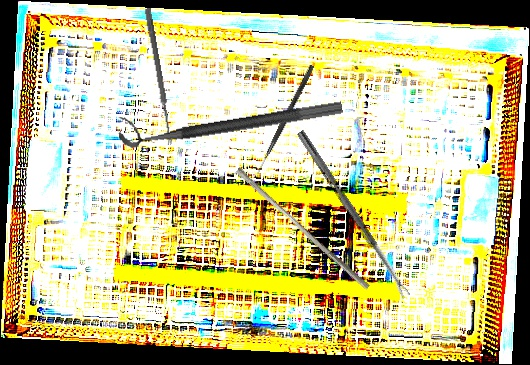Fixation Ring: (115, 81, 344, 151)
Hook Surgical: (255, 63, 315, 177)
Pusher: (231, 166, 375, 291)
Surgical Spoon: (295, 129, 411, 300), (143, 7, 175, 146)
